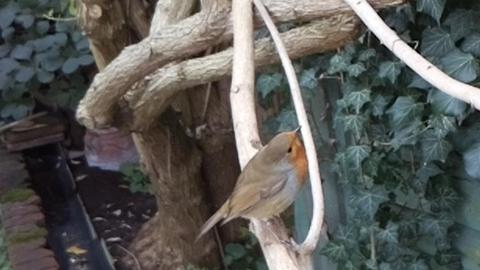robin: (192, 124, 308, 248)
